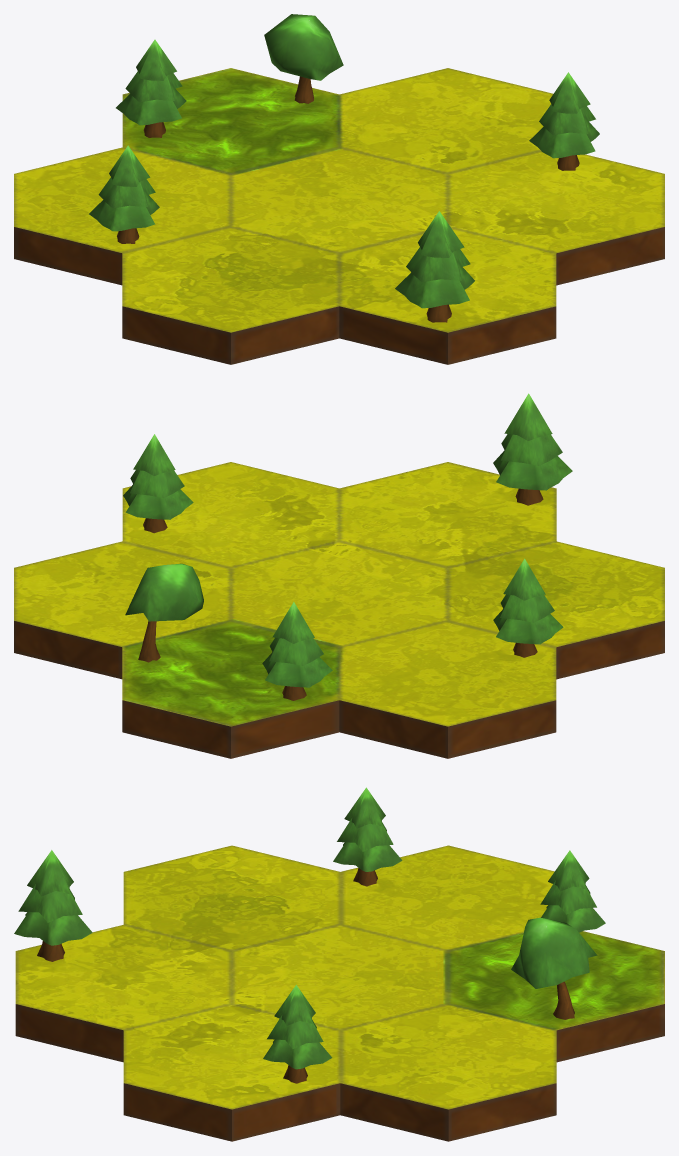
Rendered from Tile_Forest1.fbx.
3 renders of one model, top to bottom at view 1: azimuth 30°, elevation 25°; view 2: azimuth 150°, elevation 25°; view 3: azimuth 270°, elevation 25°, orthographic.
Visible parts, largest first — view 1: tile1, tree05, tree02, tree08, tree07, tree01; view 2: tile1, tree05, tree02, tree07, tree08, tree01; view 3: tile1, tree02, tree05, tree08, tree07, tree01.
Boxes of the visible parts, <box> form: tile1: <box>14,68,664,364</box>; tree05: <box>395,211,474,322</box>; tree02: <box>264,14,343,103</box>; tree08: <box>529,72,599,170</box>; tree07: <box>89,145,159,243</box>; tree01: <box>116,39,186,137</box>; tile1: <box>14,462,664,758</box>; tree05: <box>493,393,572,505</box>; tree02: <box>125,563,203,662</box>; tree07: <box>493,558,563,657</box>; tree08: <box>123,434,193,533</box>; tree01: <box>262,602,332,700</box>; tile1: <box>15,845,664,1141</box>; tree02: <box>511,917,597,1019</box>; tree05: <box>14,850,92,961</box>; tree08: <box>263,984,332,1083</box>; tree07: <box>333,787,402,886</box>; tree01: <box>540,850,605,932</box>.
Bounding box in the file's own units: 128 × 31.19 × 133.
